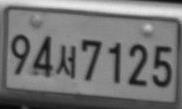1: (106, 41, 126, 83)
2: (127, 43, 148, 86)
4: (33, 35, 54, 77)
5: (150, 45, 173, 87)
7: (81, 39, 102, 80)
9: (10, 33, 31, 75)
서: (55, 44, 76, 79)
